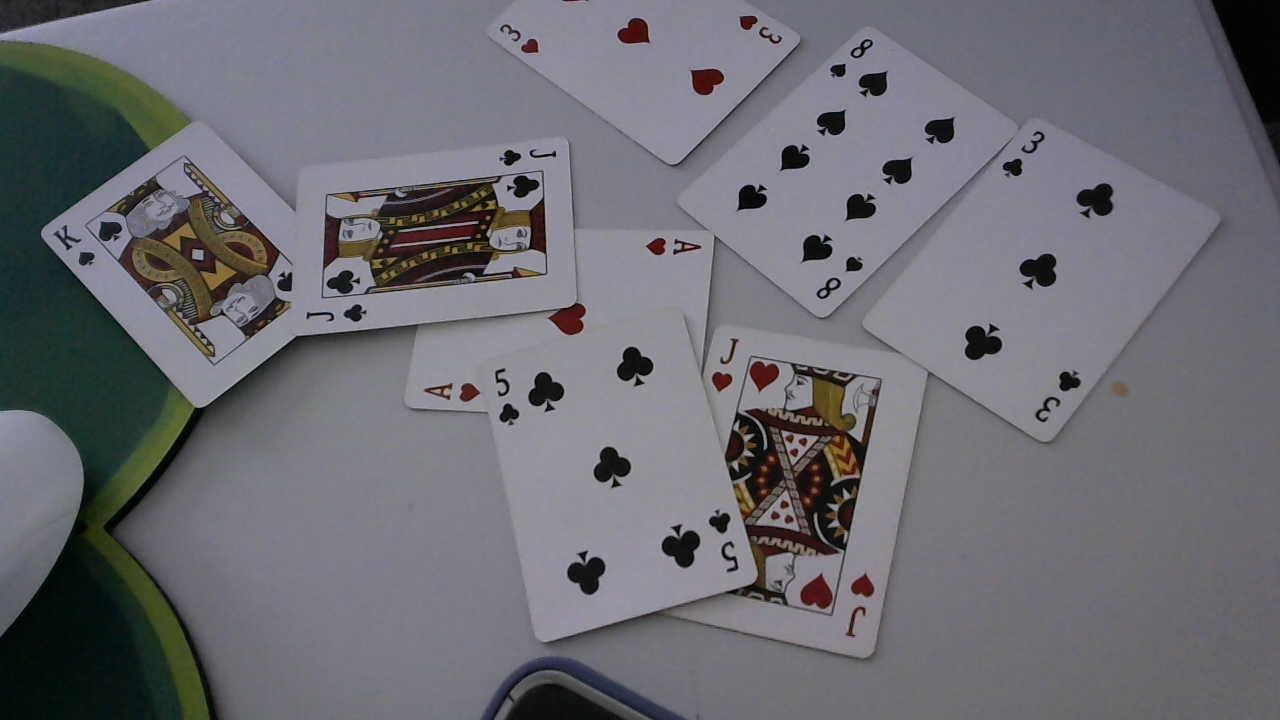3C: (1032, 368, 1086, 424), (997, 129, 1046, 181)
3H: (734, 12, 784, 48), (499, 22, 543, 57)
5C: (707, 506, 744, 574), (491, 364, 523, 425)
8S: (814, 251, 869, 299), (826, 36, 876, 82)
AH: (421, 378, 481, 406), (642, 232, 709, 256)
JC: (306, 302, 368, 324)
JH: (842, 570, 876, 640), (710, 334, 741, 394)
KS: (53, 224, 102, 268)
